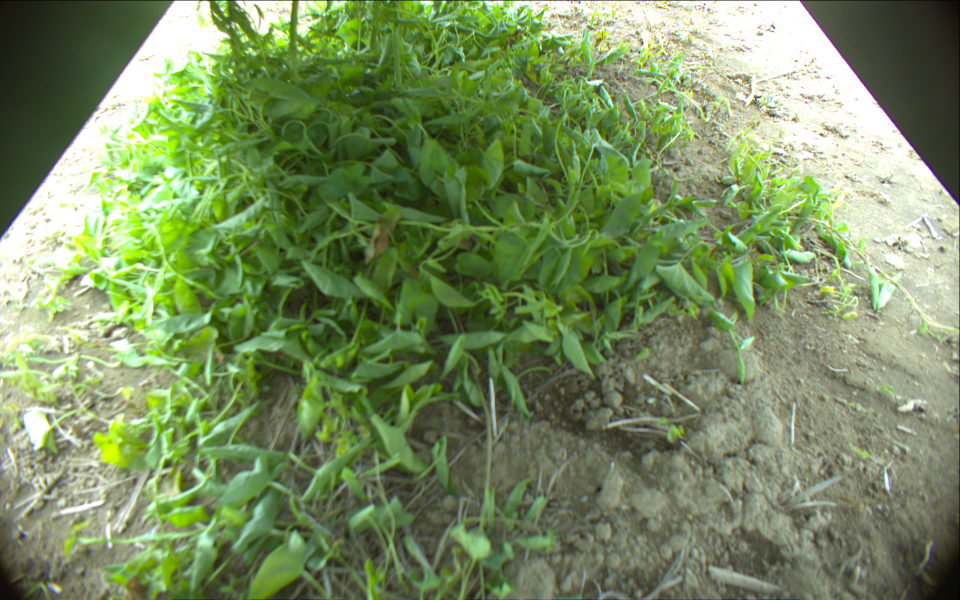aspa: (289, 1, 302, 84)
